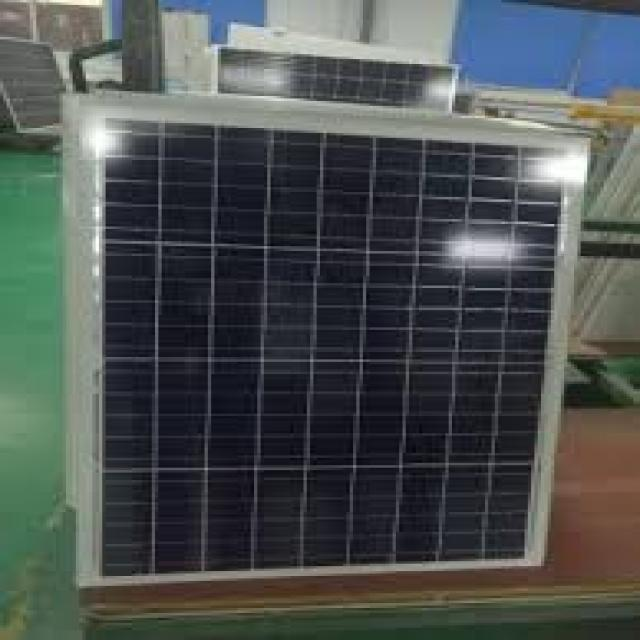faulty: (88, 113, 570, 580)
